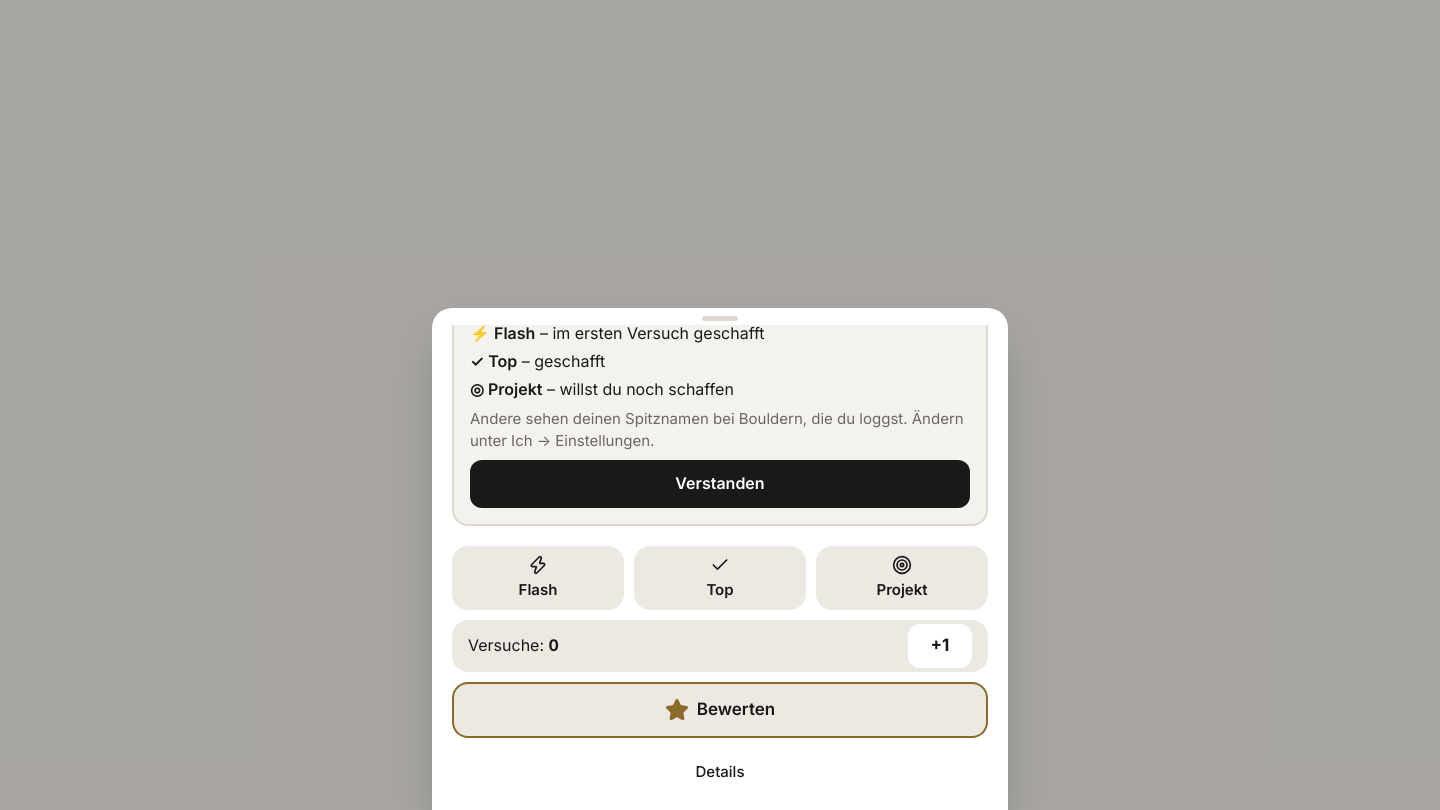
Scenario: Data Synchronization Cross-Device & Multi-User Test Suite › 4. UI Live Reactivity in BoulderSheet › updates community stats and ratings in BoulderSheet when ratings event arrives
(page scrolled)
Click the button with test id "boulder-sheet-more" at (720, 772), box [452,750,988,794]
(page scrolled)
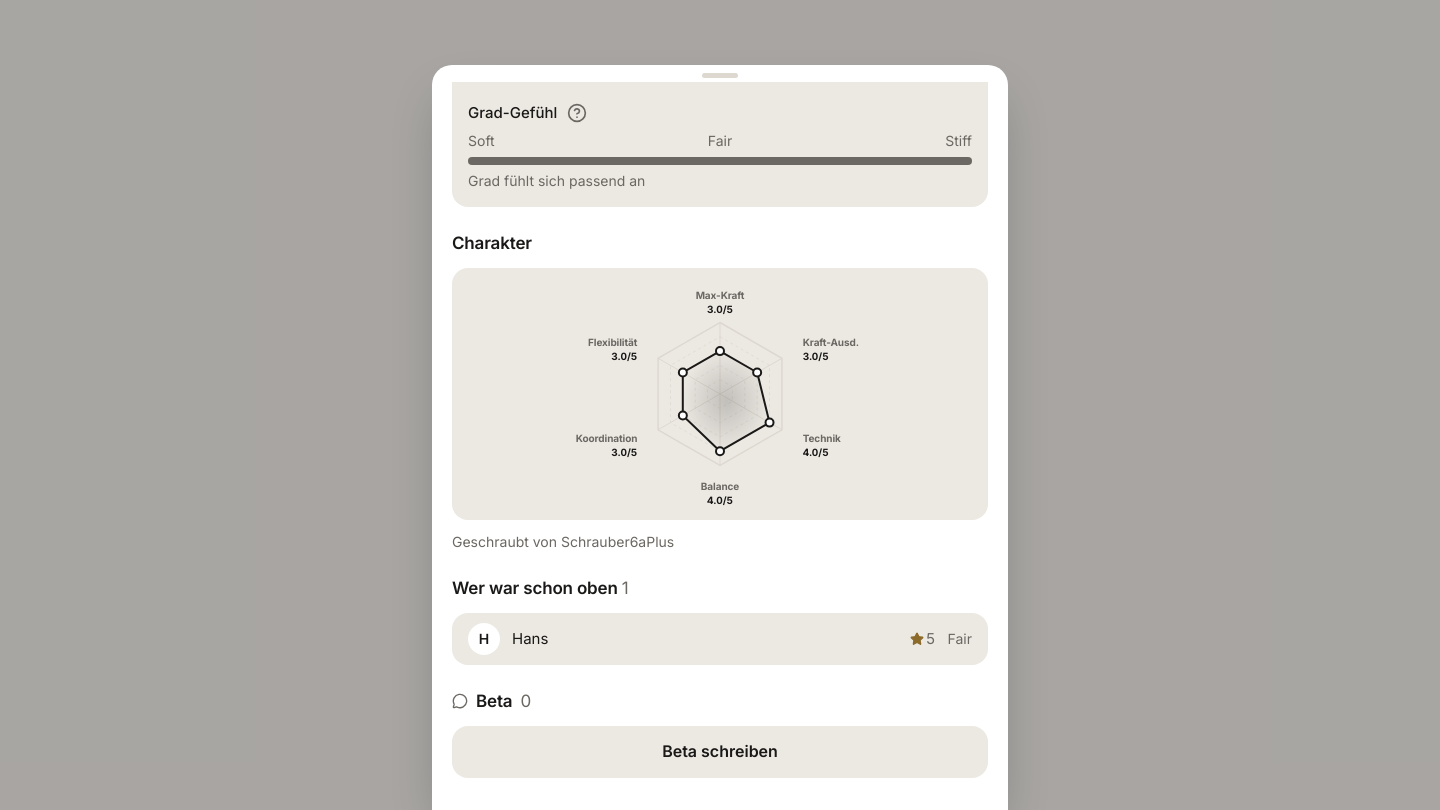
Check: the button with test id "community-rating-row-hans-kletterer" is shown, box [452,613,988,665]
